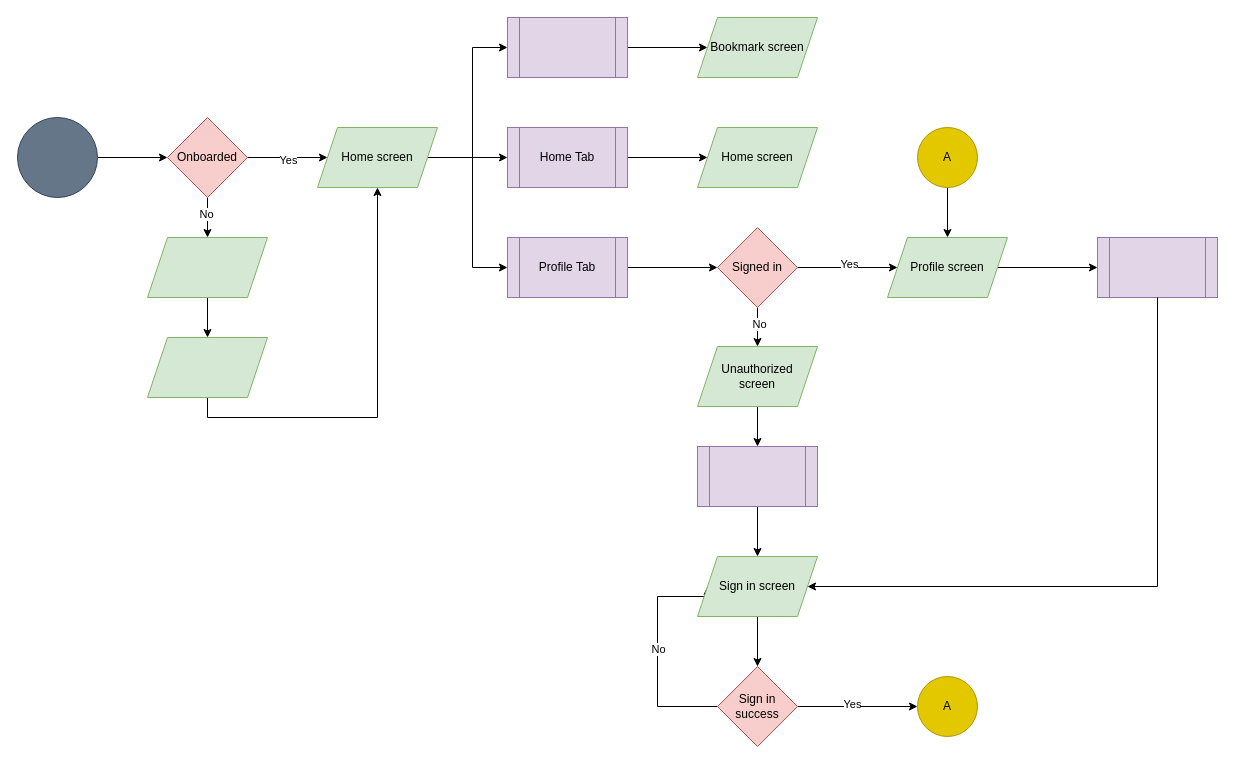
Some shapes in this 1235 by 764 pixel diagram are drawn without their labels. Here are the shapes that lost their labels. From the top down, the centre of each, then its label:
At (x=567, y=47): "Bookmark Tab".
At (x=57, y=157): "Open mobile app".
At (x=207, y=267): "Onboarding screen 1".
At (x=1157, y=267): "Sign out button".
At (x=207, y=367): "Onboarding screen 2".
At (x=757, y=476): "Sign in button".
